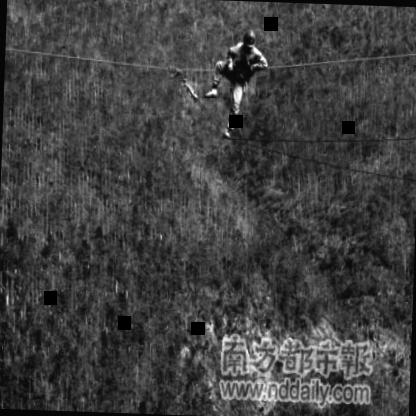helmet: (242, 24, 258, 53)
